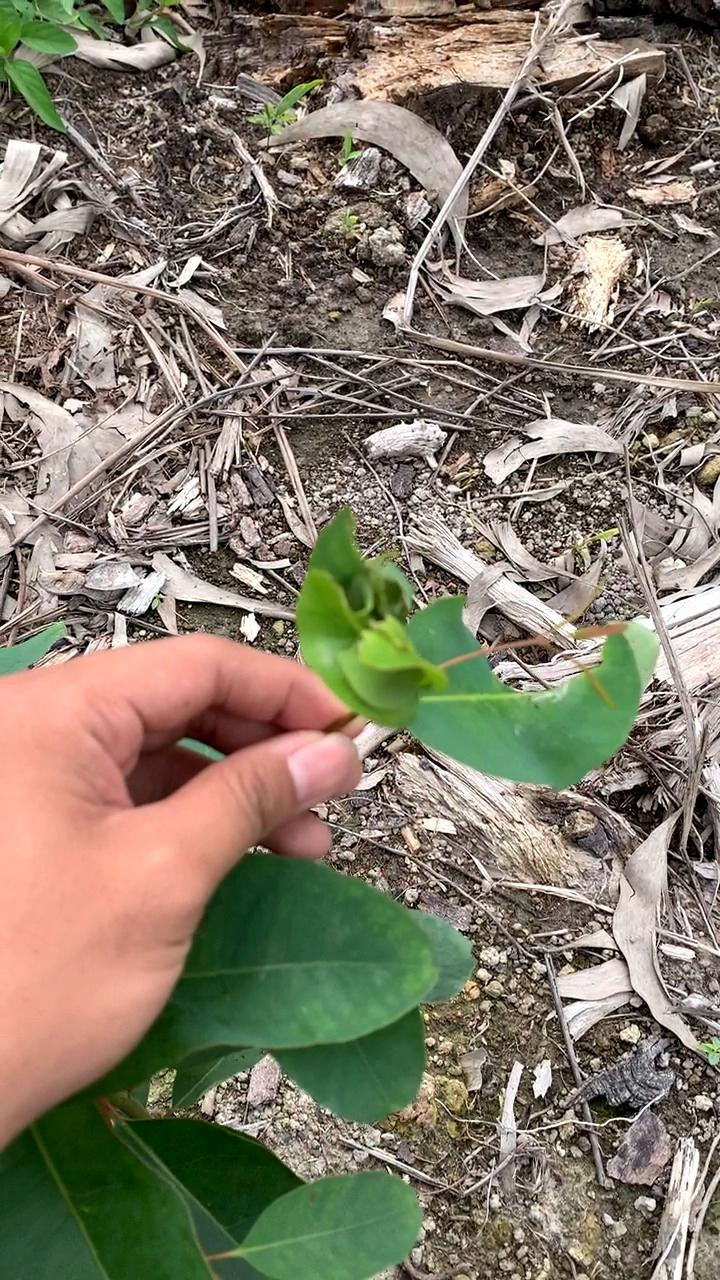Leaf Roller - Leaf: (281, 513, 456, 746)
